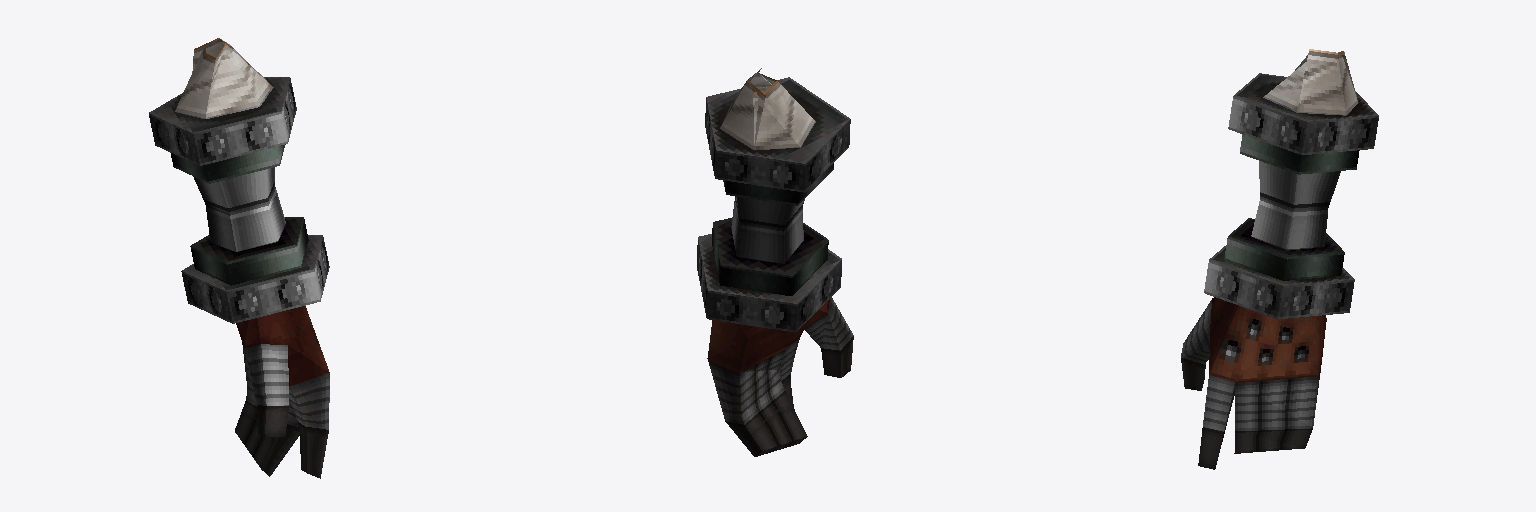
3 views of the same model, side by side, from view 1: azimuth 30°, elevation 25°; view 2: azimuth 150°, elevation 25°; view 3: azimuth 270°, elevation 25° (orthographic).
Visible parts, largest first — view 1: 0002_r_sym307, 0001_r_sym307; view 2: 0002_r_sym307, 0001_r_sym307; view 3: 0002_r_sym307, 0001_r_sym307.
Boxes of the visible parts, box(x1,y1,x2,y2) form: 0002_r_sym307: box(149, 38, 329, 323); 0001_r_sym307: box(149, 77, 329, 478); 0002_r_sym307: box(697, 68, 850, 332); 0001_r_sym307: box(698, 77, 853, 456); 0002_r_sym307: box(1204, 49, 1378, 318); 0001_r_sym307: box(1181, 73, 1378, 469).
Size of the model in its own units: 0.0936 by 0.2492 by 0.1109.
Materials: 2 (2 with a texture image).